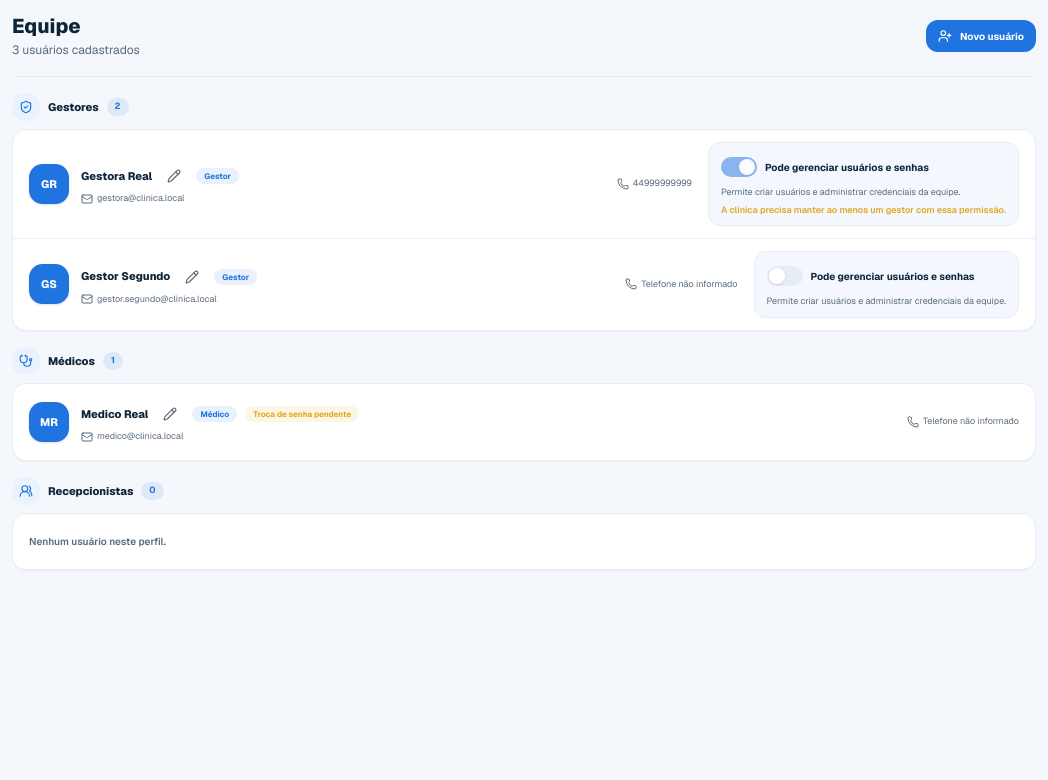
it: EquipeClient › should_send_correct_boolean_and_update_permission_without_reload
What coordinates should you click on to do the following:
click the switch named "Pode gerenciar usuários e senhas: Gestor Segundo"
I would click on:
 (784, 276)
Its box is [766,266,802,286].
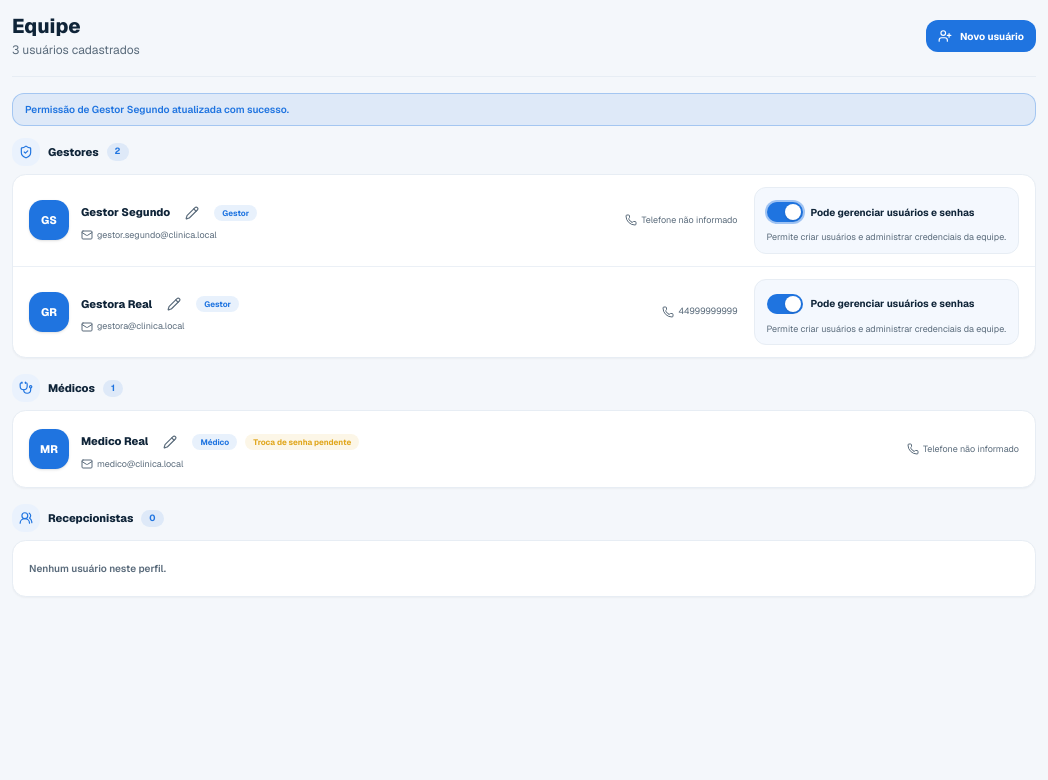
Expected: the switch named "Pode gerenciar usuários e senhas: Gestor Segundo" is checked, [766,202,802,222]
Expected: the message reads "Permissão de Gestor Segundo atualizada com sucesso.", [25,103,289,116]
